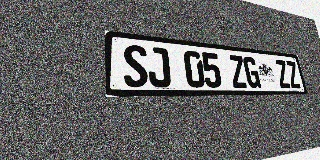0: (183, 50, 205, 88)
5: (201, 52, 223, 88)
G: (242, 56, 261, 88)
J: (147, 46, 171, 87)
S: (123, 44, 149, 87)
Z: (228, 55, 248, 88), (274, 59, 291, 88), (285, 61, 301, 88)
